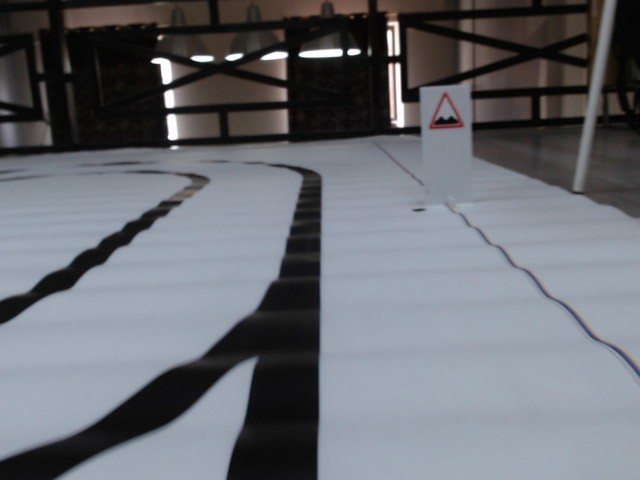Nerov: (426, 93, 467, 128)
